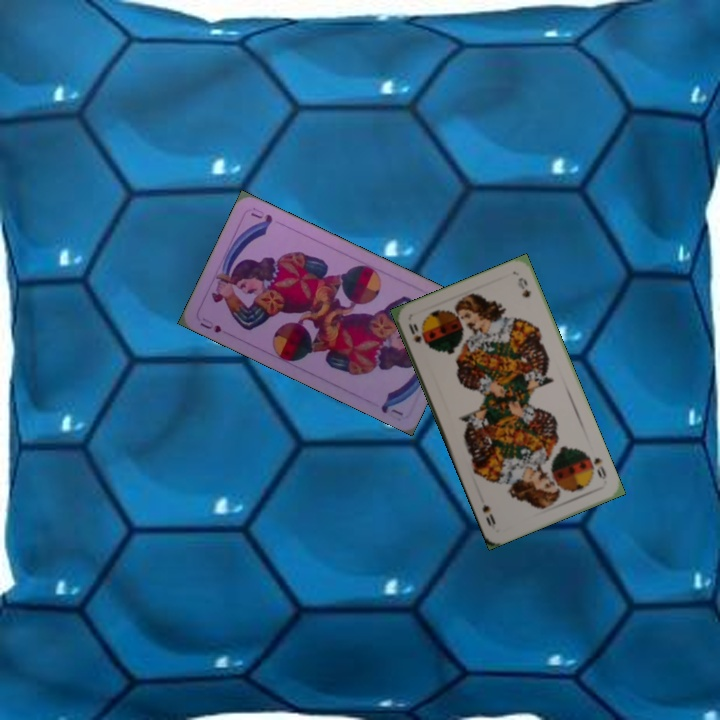SO: (584, 451, 609, 482), (404, 319, 429, 348)
SU: (196, 314, 224, 335)
